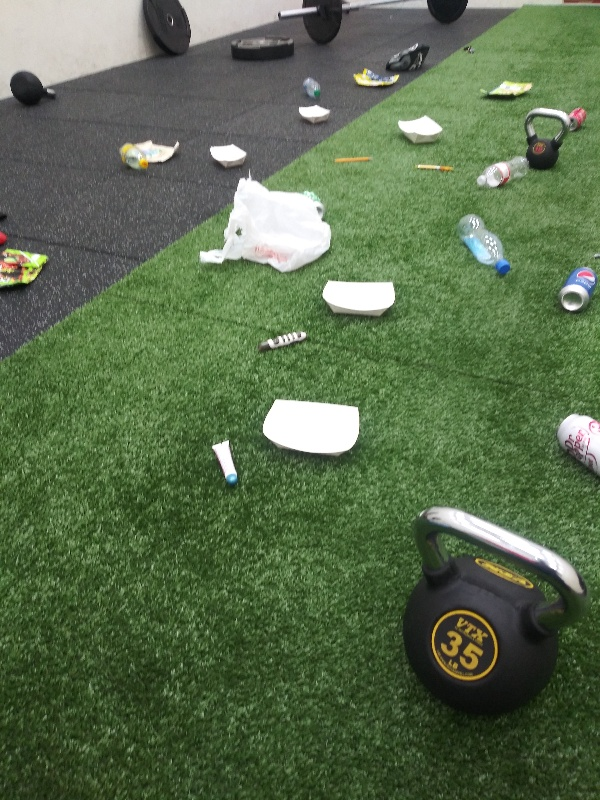bag: (1, 242, 55, 292), (475, 75, 538, 103), (348, 66, 403, 92), (130, 135, 187, 160)
bottle: (449, 209, 515, 280), (472, 149, 534, 192), (113, 140, 149, 171), (295, 73, 327, 101)
can: (552, 408, 600, 480), (553, 263, 600, 317), (562, 105, 591, 133), (301, 188, 325, 218)
plate: (255, 394, 364, 464), (317, 275, 399, 323), (393, 111, 448, 149), (204, 139, 249, 170), (295, 102, 331, 127)
